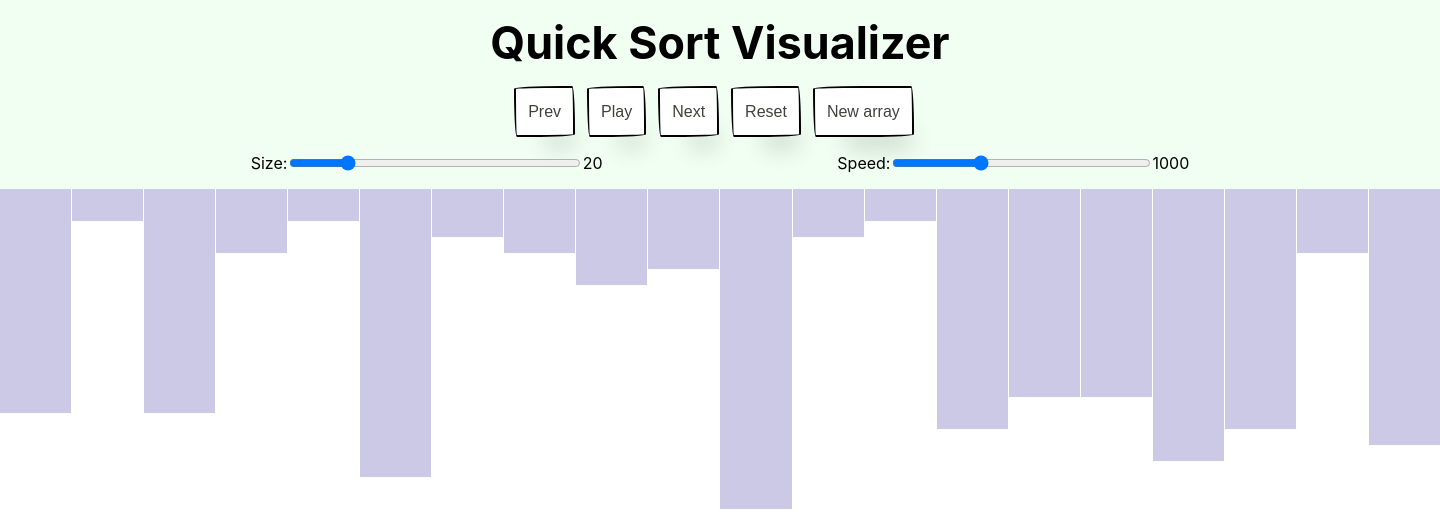
Test case: Visualizer › should not go over 3000 speed
Set the slider with test id "speed" to "3500": (1021, 163) [892, 155, 1150, 171]
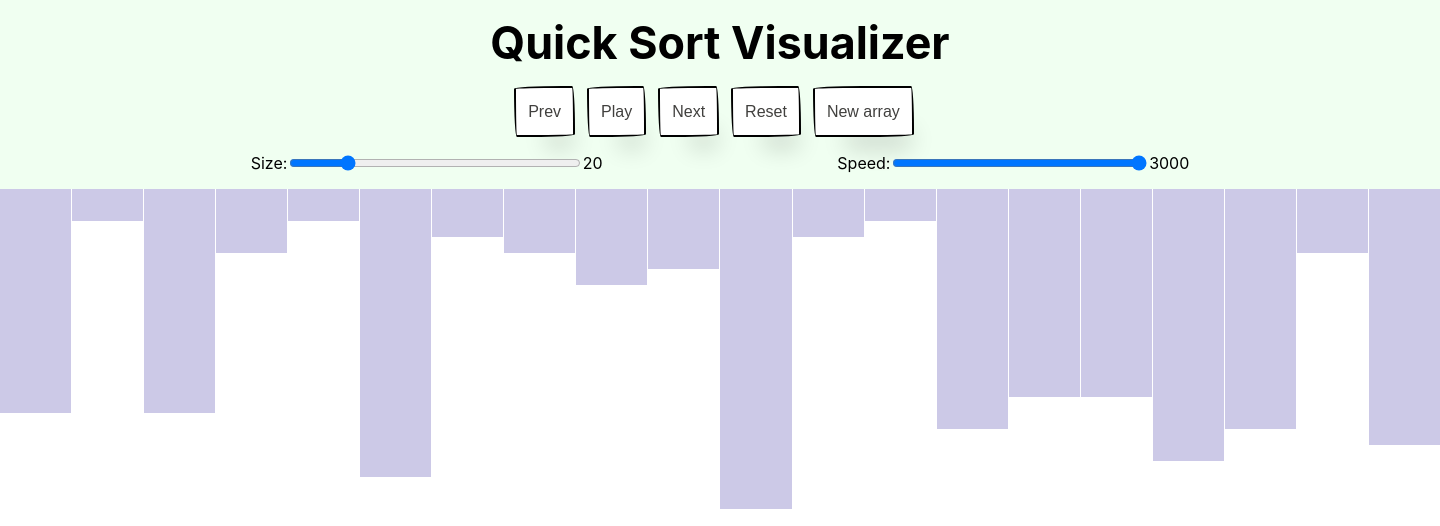
Now the slider with test id "speed" does not hold "3500", box [892, 155, 1147, 171]
